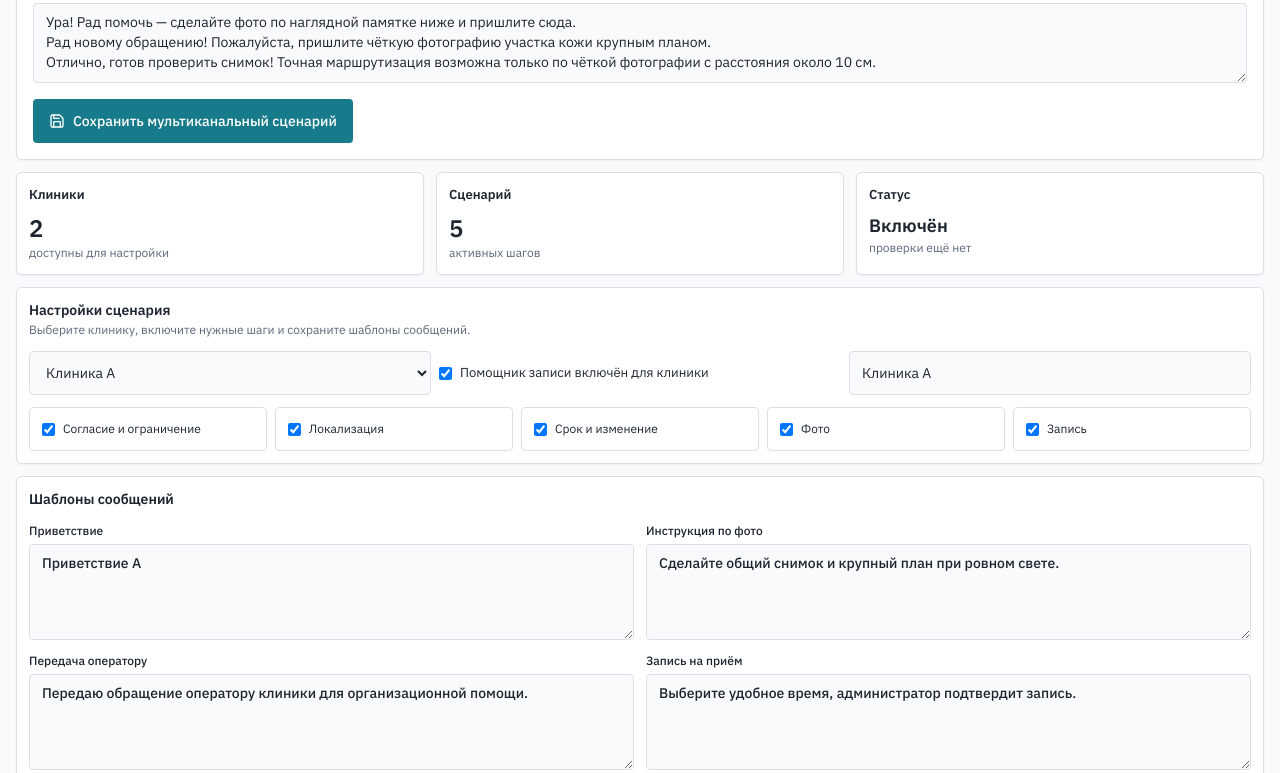
it: AdminBotSettingsPage · live settings synchronization › keeps the selected clinic form synchronized after refreshing the same clinic id
This screenshot has width=1280, height=773.
Later steps or results of the test are not shown.
(page scrolled)
expect the text box showing "Приветствие А" is shown: met, box [29, 544, 634, 640]
Select "Клиника Б" in the dropdown named "Клиника помощника записи" at coordinates (230, 373), box [29, 351, 431, 395]
(page scrolled)
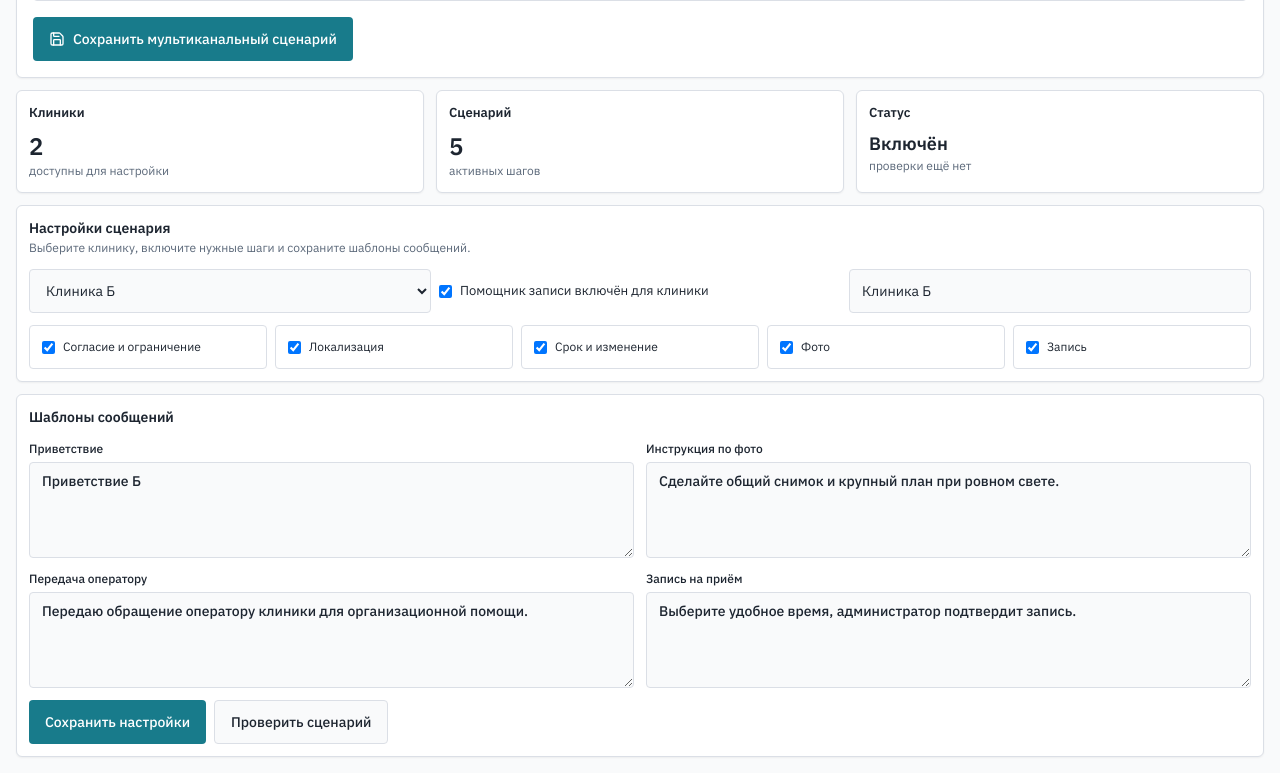
expect the text box showing "Приветствие Б" is shown: met, box [29, 462, 634, 558]
